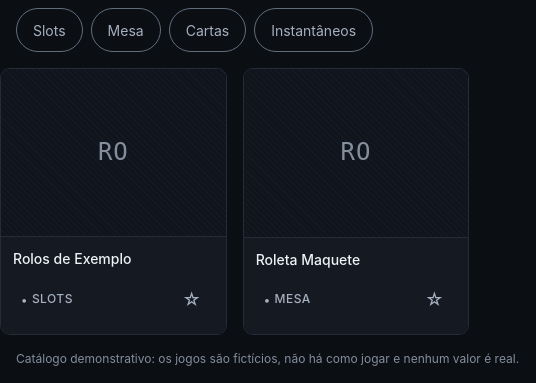
CatalogoJogos › carregar de novo na categoria ativa remove o filtro
What coordinates should you click on to do the following:
click the button "Mesa"
I would click on:
 (126, 30)
Its box is x1=91 y1=8 x2=161 y2=52.
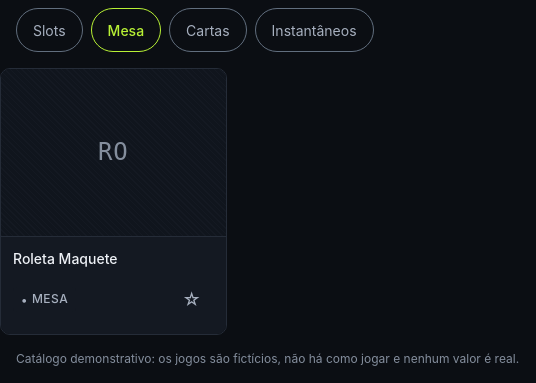
What coordinates should you click on to do the following:
click the button "Mesa"
I would click on:
 (126, 30)
Its box is x1=91 y1=8 x2=161 y2=52.
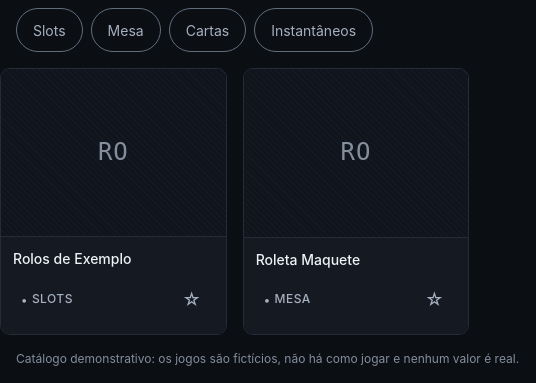
expect the heading "Rolos de Exemplo" is shown: met, box x1=13 y1=250 x2=132 y2=270
